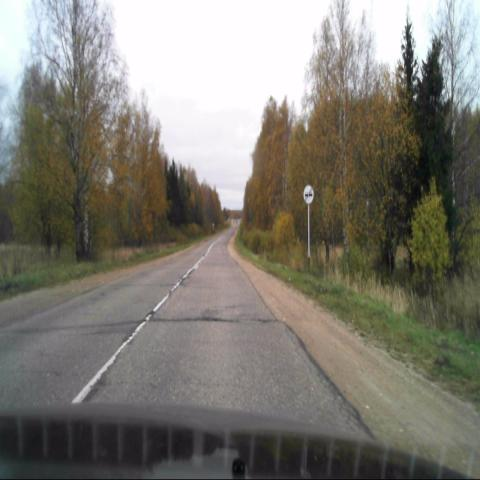3_21: (302, 184, 314, 204)
